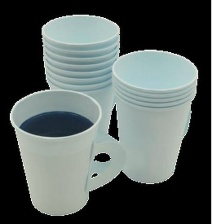paper_cup: (3, 84, 129, 220), (106, 46, 202, 189), (38, 10, 124, 141)
